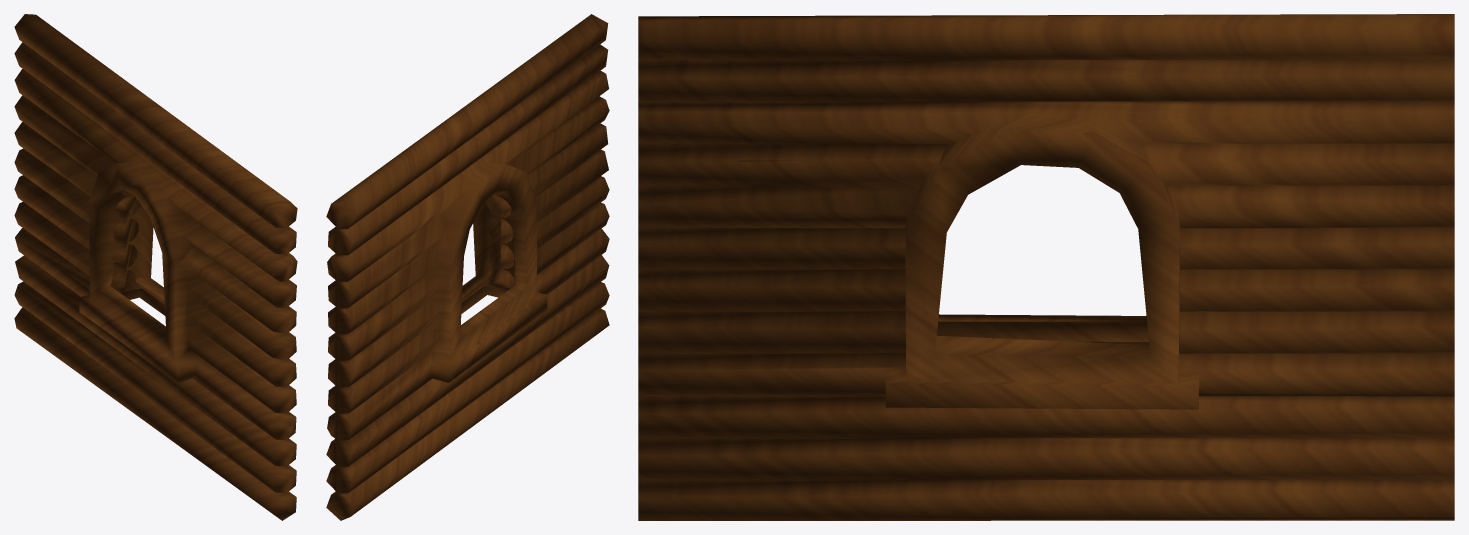
Rendered from WoodenWall_Window.fbx.
3 renders of one model, left to right at view 1: azimuth 30°, elevation 25°; view 2: azimuth 150°, elevation 25°; view 3: azimuth 270°, elevation 25°, orthographic. The views are drawn at different scales.
Visible parts, largest first — view 1: WoodenWall/Window; view 2: WoodenWall/Window; view 3: WoodenWall/Window.
Part boxes in pixels (box(x1,y1,x2,y2)): WoodenWall/Window: box(14, 14, 297, 520); WoodenWall/Window: box(326, 14, 609, 520); WoodenWall/Window: box(638, 14, 1454, 520).
Bounding box in the file's own units: 81.25 × 412 × 603.
